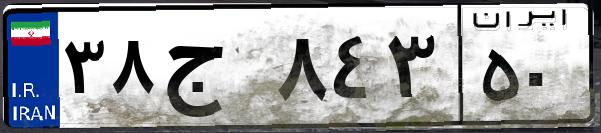0: (525, 38, 570, 115)
3: (385, 28, 445, 110), (57, 26, 110, 100)
4: (330, 28, 385, 110)
5: (475, 38, 525, 113)
8: (270, 28, 330, 110), (110, 28, 158, 98)
ج: (158, 20, 270, 120)
